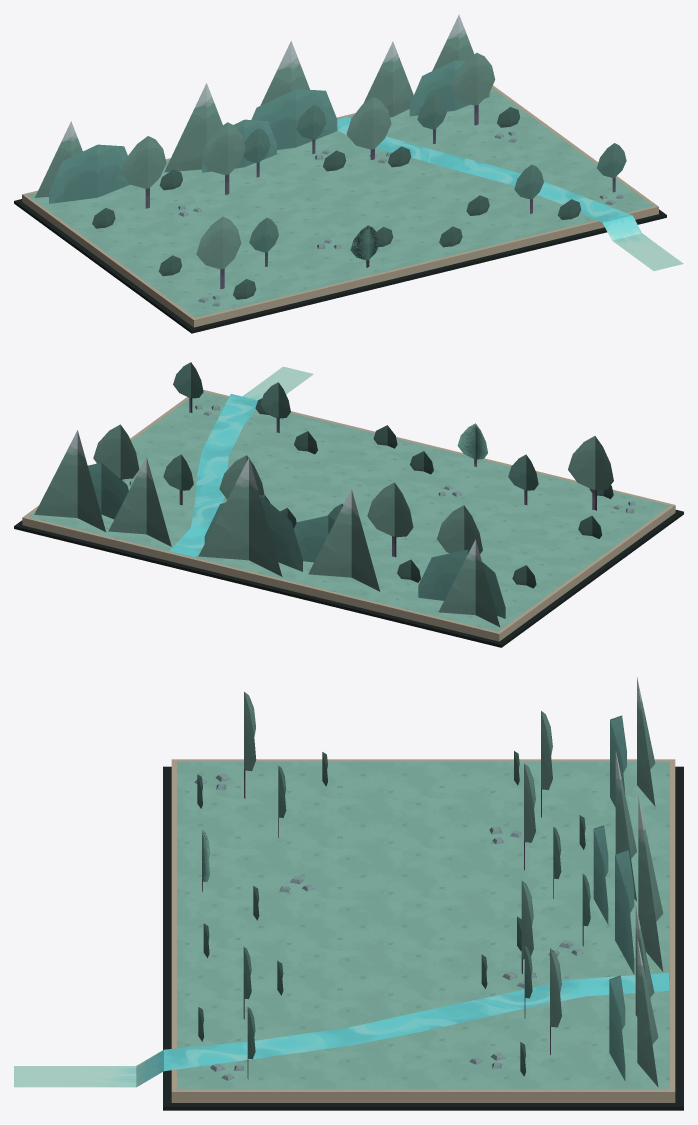
Rendered from popupbook.fbx.
3 renders of one model, top to bottom at view 1: azimuth 30°, elevation 25°; view 2: azimuth 150°, elevation 25°; view 3: azimuth 270°, elevation 25°, orthographic. The views are drawn at different scales.
Visible parts, largest first — view 1: pop-up book; view 2: pop-up book; view 3: pop-up book.
Boxes of the visible parts, x1,y1,x2,y2 form: pop-up book: (14, 14, 683, 333); pop-up book: (14, 362, 683, 647); pop-up book: (14, 677, 683, 1110).
Size of the model in its own units: 257 by 72.32 by 309.
